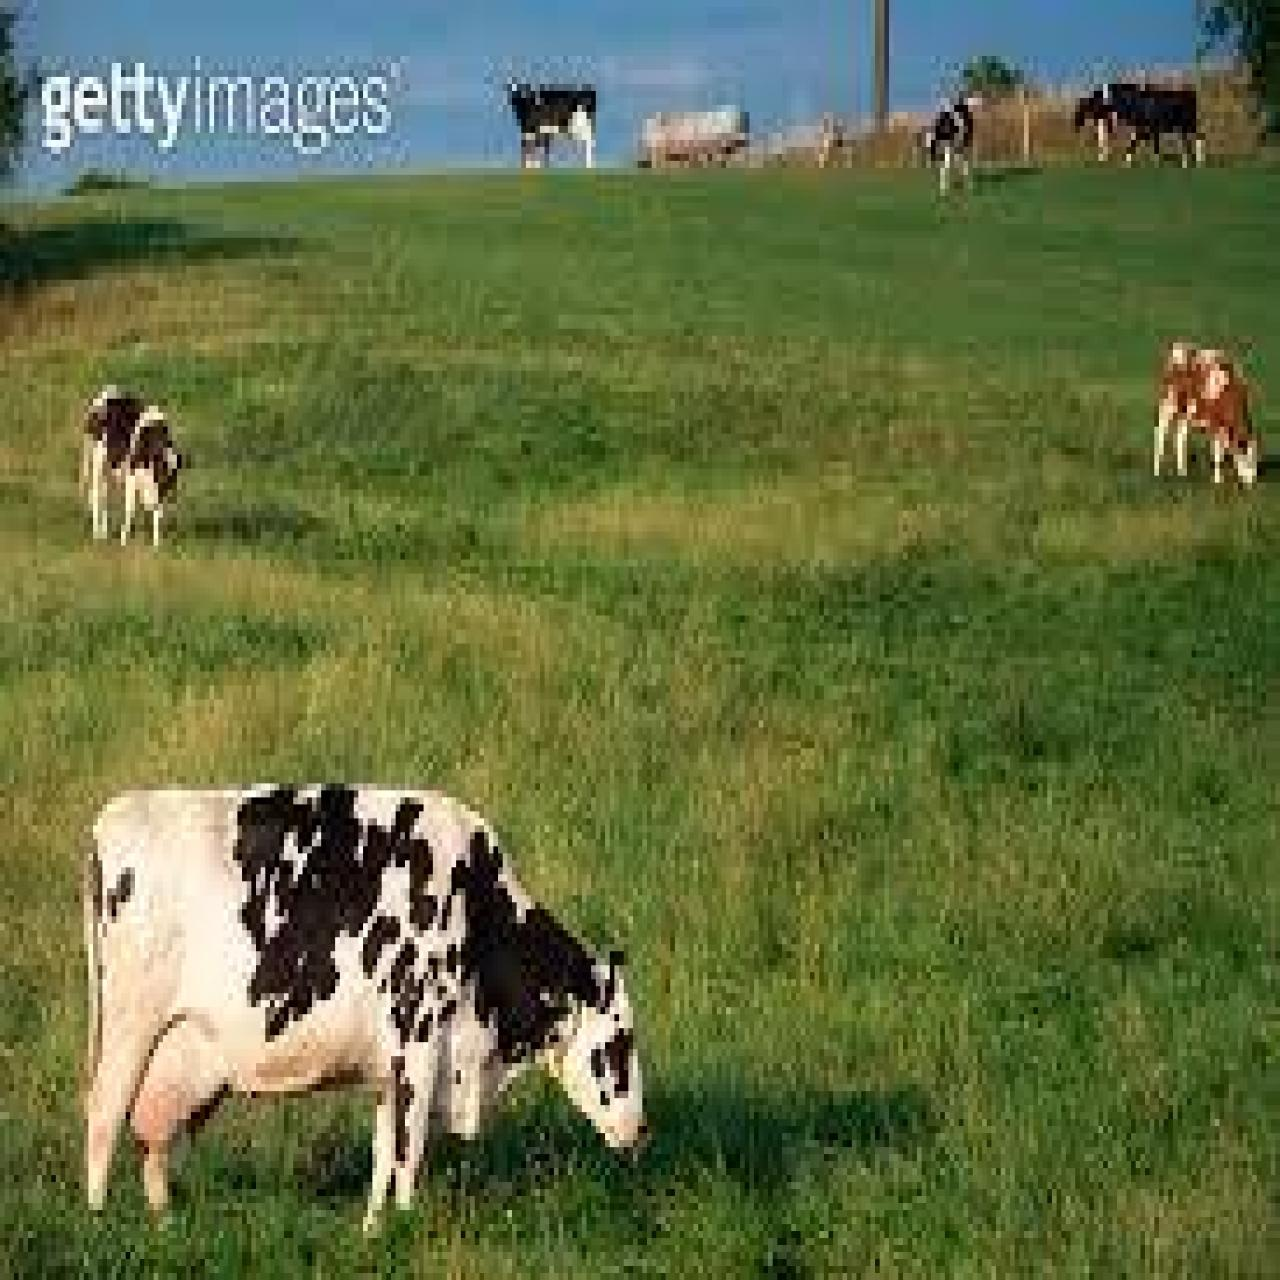cow: (79, 776, 647, 1231), (72, 370, 193, 552), (1150, 335, 1261, 490), (505, 77, 598, 175), (1115, 81, 1208, 171), (1069, 74, 1148, 171), (921, 98, 978, 189)
